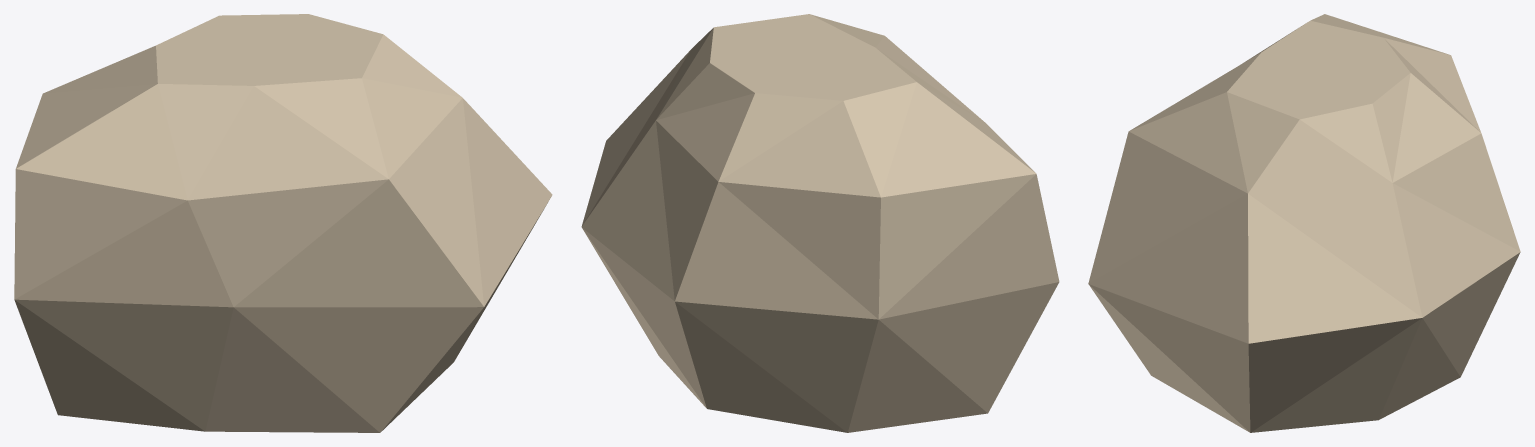
File: lake_rock_b.fbx
3 views of the same model, side by side, from view 1: azimuth 30°, elevation 25°; view 2: azimuth 150°, elevation 25°; view 3: azimuth 270°, elevation 25° (orthographic). The views are drawn at different scales.
Visible parts, largest first — view 1: lake_rock_b; view 2: lake_rock_b; view 3: lake_rock_b.
Part boxes in pixels (x1,y1,x2,y2): lake_rock_b: (14,14,552,432); lake_rock_b: (581,14,1059,432); lake_rock_b: (1088,14,1520,432).
Bounding box in the file's own units: 2 × 1.2 × 1.6.
